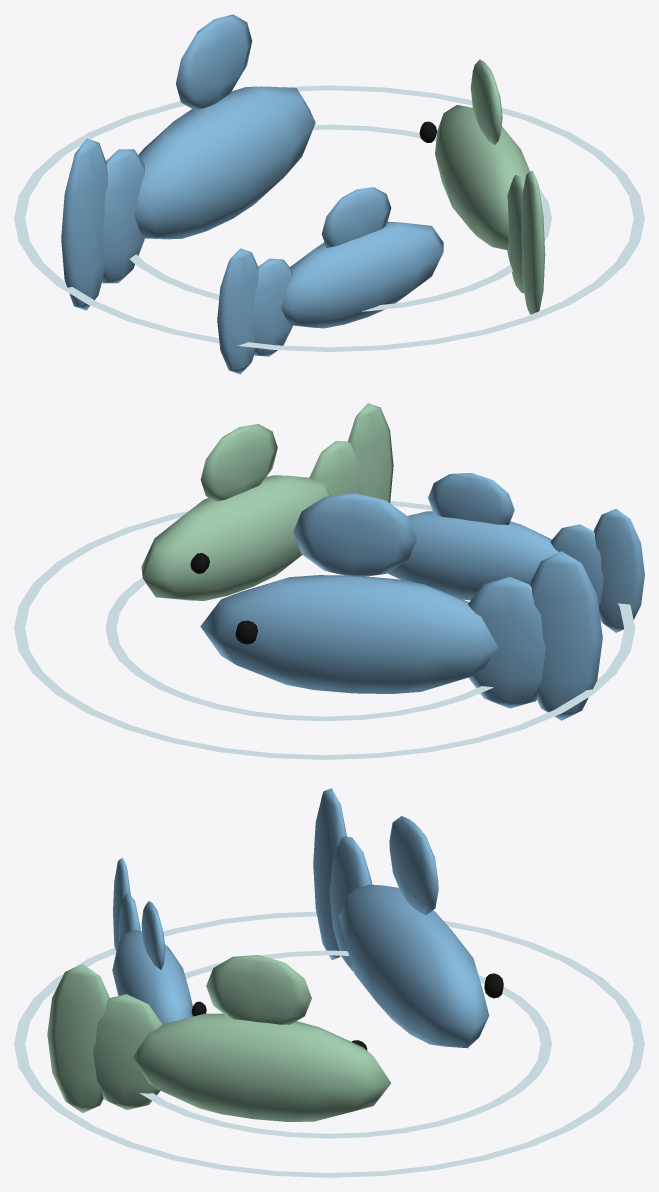
The model's file is resource_fish.fbx.
The picture shows the model from 3 angles, top to bottom: view 1: azimuth 30°, elevation 25°; view 2: azimuth 150°, elevation 25°; view 3: azimuth 270°, elevation 25°; orthographic projection.
Visible parts, largest first — view 1: resource_fish_fish#7fb4d8_01, resource_fish_fish#9ac6a8_03, resource_fish_foam_ring_00; view 2: resource_fish_fish#7fb4d8_01, resource_fish_fish#9ac6a8_03, resource_fish_foam_ring_00, resource_fish_eye_02; view 3: resource_fish_fish#9ac6a8_03, resource_fish_fish#7fb4d8_01, resource_fish_foam_ring_00, resource_fish_eye_02.
Boxes of the visible parts, x1,y1,x2,y2 form: resource_fish_fish#7fb4d8_01: (61,14,443,374); resource_fish_fish#9ac6a8_03: (435,59,545,314); resource_fish_foam_ring_00: (14,85,644,351); resource_fish_fish#7fb4d8_01: (200,473,644,720); resource_fish_fish#9ac6a8_03: (141,403,393,600); resource_fish_foam_ring_00: (14,500,635,759); resource_fish_eye_02: (190,553,257,644); resource_fish_fish#9ac6a8_03: (47,955,391,1121); resource_fish_fish#7fb4d8_01: (112,788,489,1048); resource_fish_foam_ring_00: (14,911,644,1177); resource_fish_eye_02: (191,973,503,1050).
Size of the model in its own units: 89.96 by 34.5 by 89.6.
